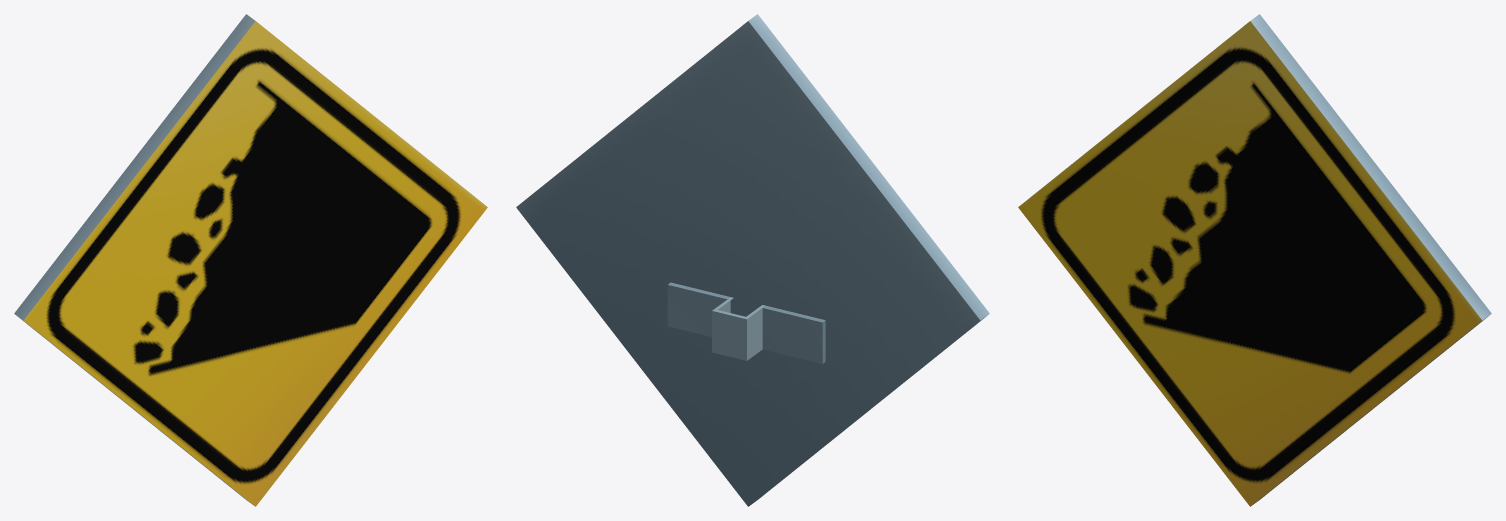
The model's file is Sign27.fbx.
3 views of the same model, side by side, from view 1: azimuth 30°, elevation 25°; view 2: azimuth 150°, elevation 25°; view 3: azimuth 330°, elevation 25° (orthographic).
Visible parts, largest first — view 1: Sign27; view 2: Sign27; view 3: Sign27.
Part boxes in pixels (x1,y1,x2,y2): Sign27: [14, 14, 487, 506]; Sign27: [516, 14, 989, 506]; Sign27: [1018, 14, 1491, 506].
Size of the model in its own units: 1.41 by 0.1489 by 1.41.
